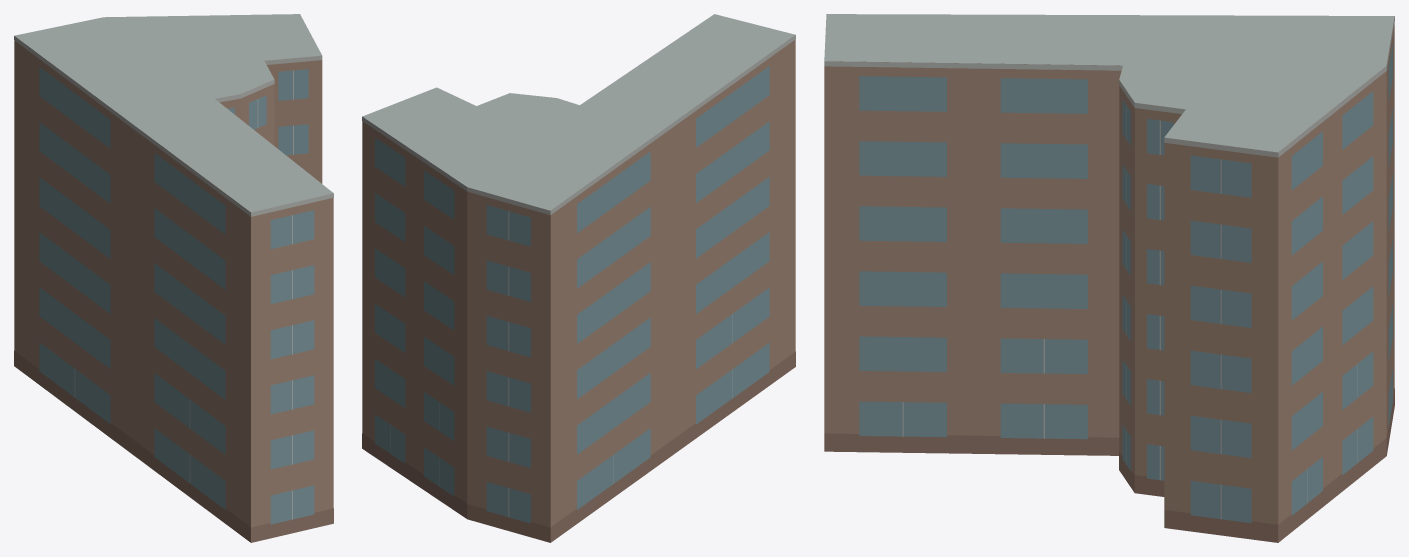
The model's file is survey-upis-32873194.glb.
The picture shows the model from 3 angles, left to right: view 1: azimuth 30°, elevation 25°; view 2: azimuth 150°, elevation 25°; view 3: azimuth 270°, elevation 25°; orthographic projection. The views are drawn at different scales.
Parts seen in each view (by area): view 1: survey-upis-32873194.tmp; view 2: survey-upis-32873194.tmp; view 3: survey-upis-32873194.tmp.
Part boxes in pixels (<box>): survey-upis-32873194.tmp: <box>14,14,333,542</box>; survey-upis-32873194.tmp: <box>362,14,795,542</box>; survey-upis-32873194.tmp: <box>824,14,1394,542</box>.
Size of the model in its own units: 13.93 by 18.3 by 24.24.
